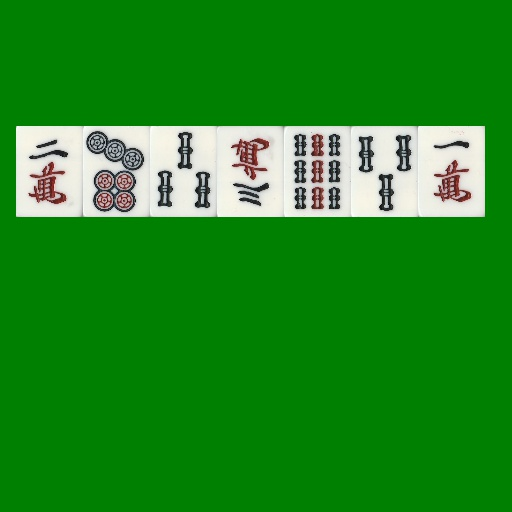1m: (418, 126, 485, 217)
2m: (16, 126, 83, 217)
3m: (217, 126, 284, 217)
3s: (150, 126, 217, 217), (351, 126, 418, 217)
7p: (83, 126, 150, 217)
9s: (284, 126, 351, 217)
